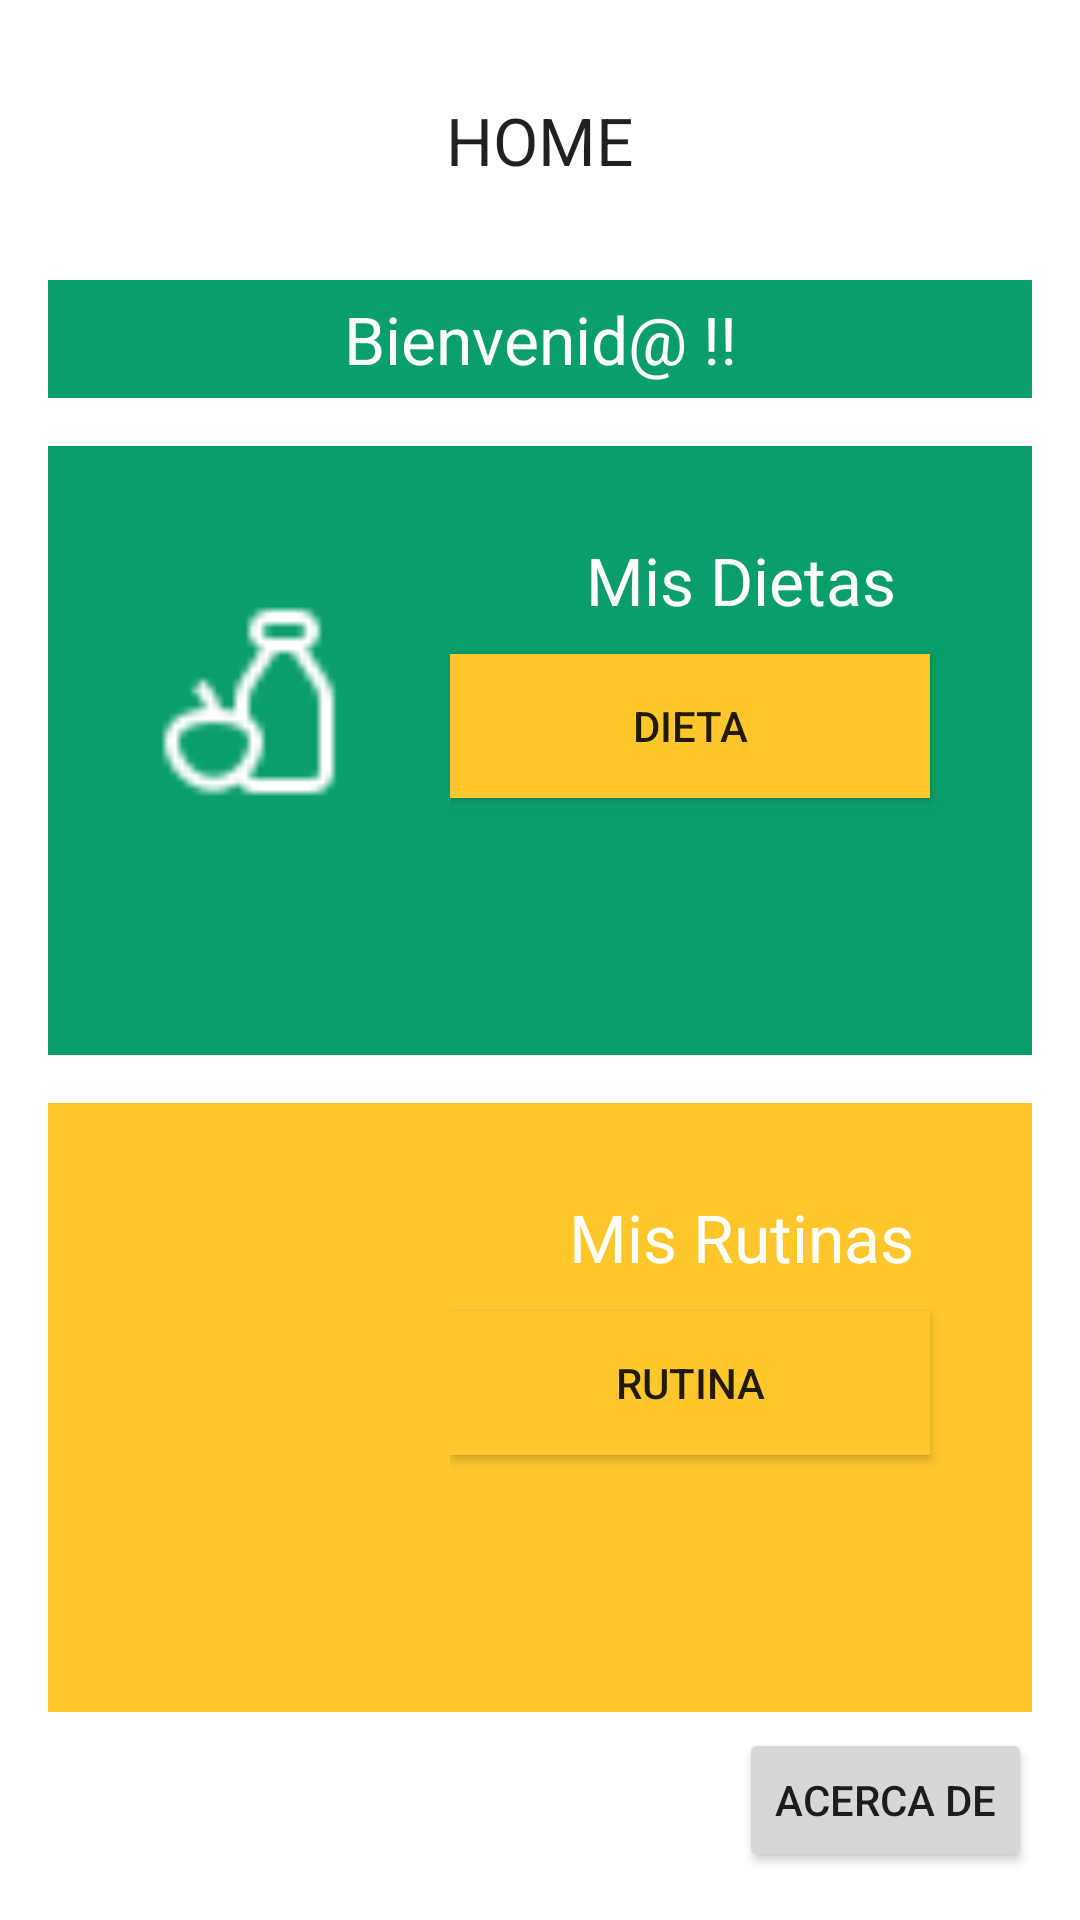

Icon click points for this 1080 × 1920 phone screenshot, format [x,y]:
foodicon: [249,701]
